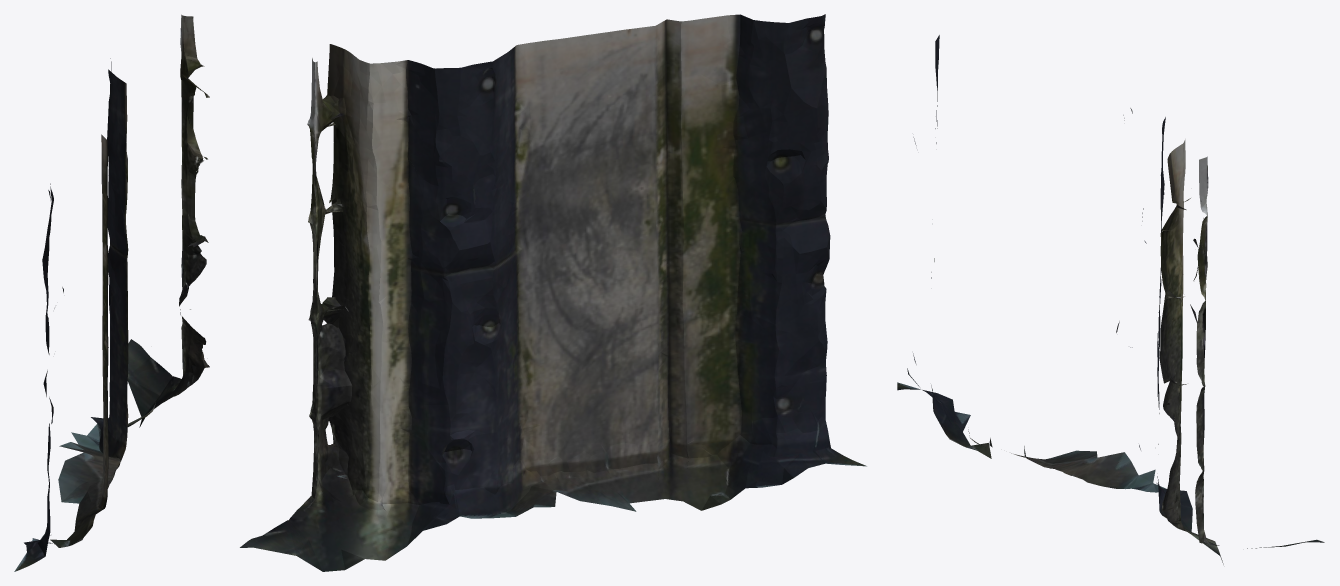
3 views of the same model, side by side, from view 1: azimuth 30°, elevation 25°; view 2: azimuth 150°, elevation 25°; view 3: azimuth 270°, elevation 25° (orthographic). The views are drawn at different scales.
Bounding box in the file's own units: 1.17 × 1.42 × 1.29.
1 material, 1 textured.
